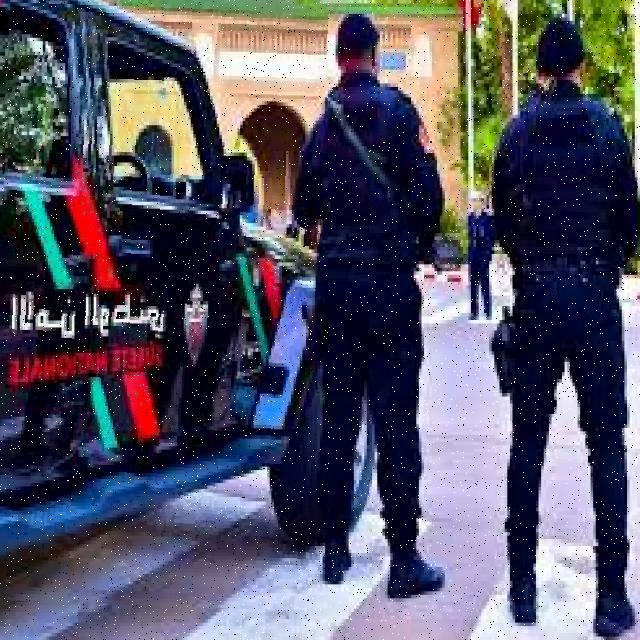police: (0, 0, 323, 607)
